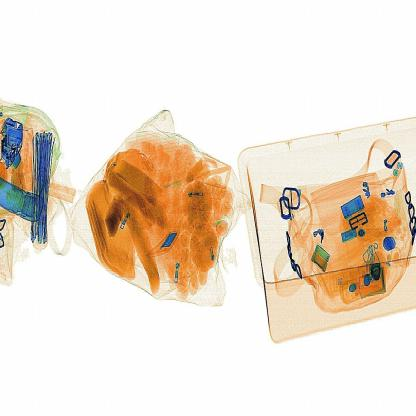pliers: (149, 219, 194, 262)
